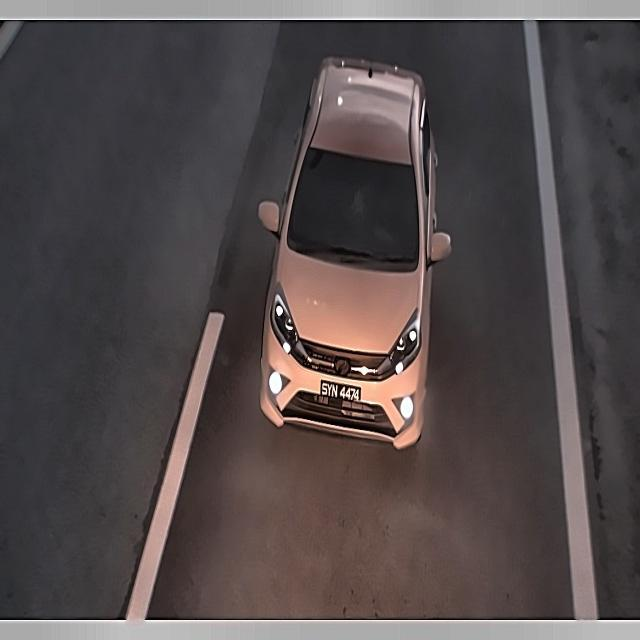car: (318, 375, 365, 410)
